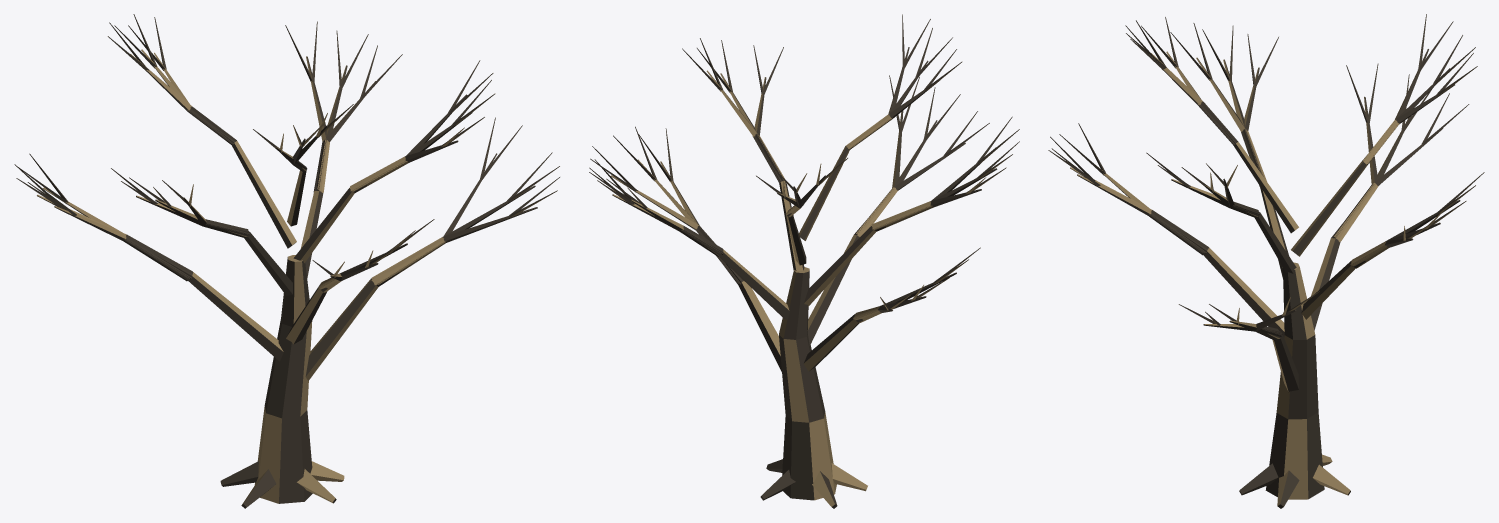
The model's file is tree_dead_stag.obj.
3 views of the same model, side by side, from view 1: azimuth 30°, elevation 25°; view 2: azimuth 150°, elevation 25°; view 3: azimuth 270°, elevation 25° (orthographic). The views are drawn at different scales.
Parts seen in each view (by area): view 1: tree_dead_stag; view 2: tree_dead_stag; view 3: tree_dead_stag.
Part boxes in pixels (x1,y1,x2,y2): tree_dead_stag: (14,14,559,508); tree_dead_stag: (589,14,1019,508); tree_dead_stag: (1048,14,1484,508).
Bounding box in the file's own units: 586 × 560 × 500.
1 material, 1 textured.
